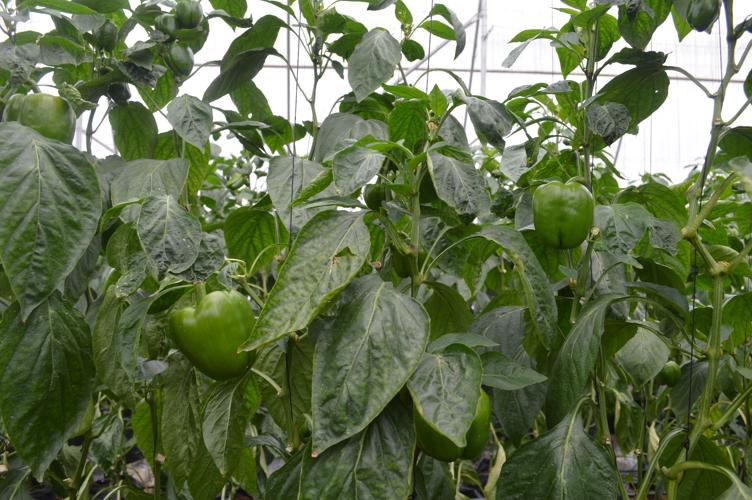BellPepper: (165, 289, 271, 381), (409, 380, 497, 467), (523, 174, 603, 264), (3, 80, 78, 154), (160, 35, 197, 82)
